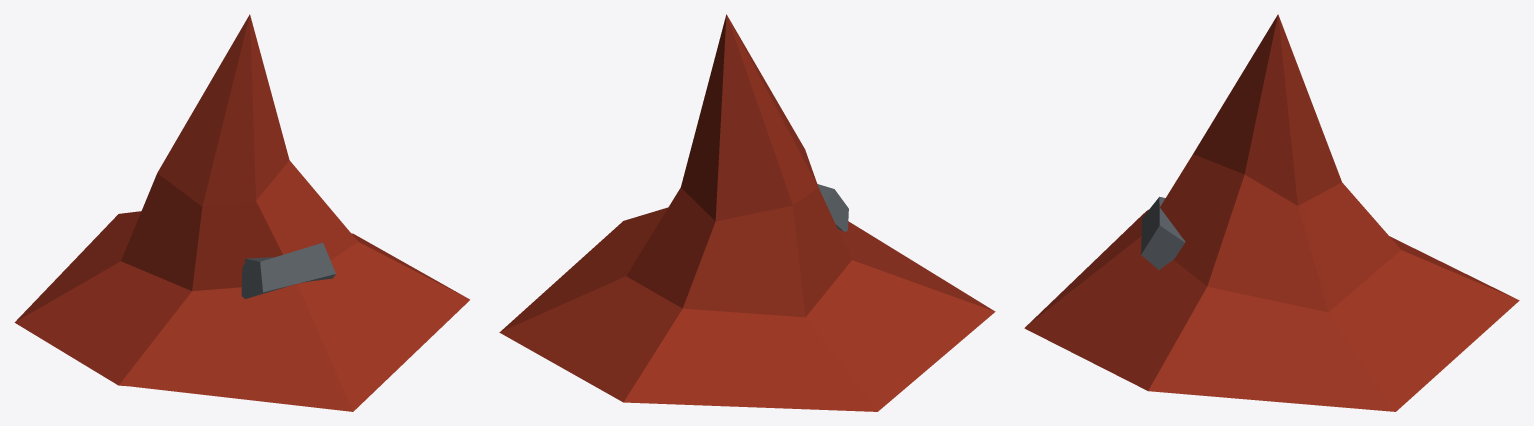
The model's file is wizard_hat_02.fbx.
The picture shows the model from 3 angles, left to right: view 1: azimuth 30°, elevation 25°; view 2: azimuth 150°, elevation 25°; view 3: azimuth 270°, elevation 25°; orthographic projection. The views are drawn at different scales.
Parts seen in each view (by area): view 1: wizard_hat_02; view 2: wizard_hat_02; view 3: wizard_hat_02.
Boxes of the visible parts, x1,y1,x2,y2 form: wizard_hat_02: (14,14,469,411); wizard_hat_02: (499,14,995,411); wizard_hat_02: (1024,14,1519,411).
Size of the model in its own units: 2.1 by 1.74 by 2.43.
